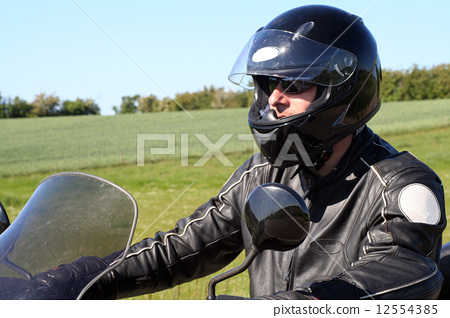helmet: (237, 12, 388, 137)
